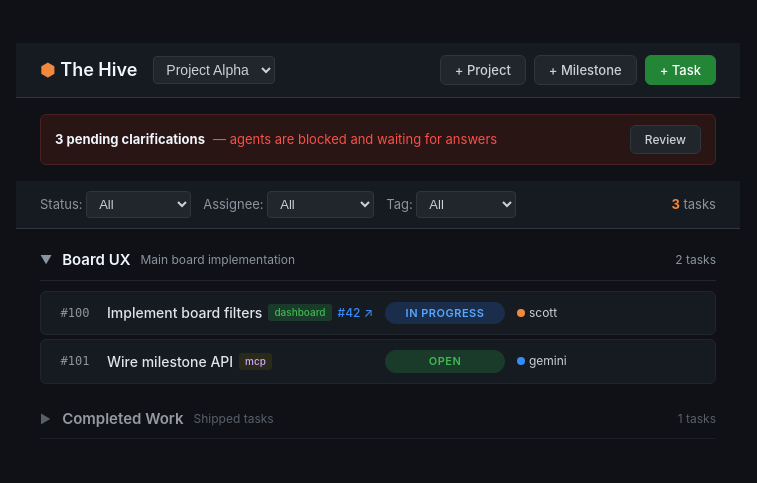
Test: Board View › defaults done milestones to collapsed and toggles open
Expected: the text "Completed Work" is shown, [62, 408, 184, 430]
Expected: the text "Shipped done task" is not shown
Click the button "▼ Completed Work Shipped tasks 1 tasks". click: coordinates (123, 418)
box: [40, 408, 716, 439]
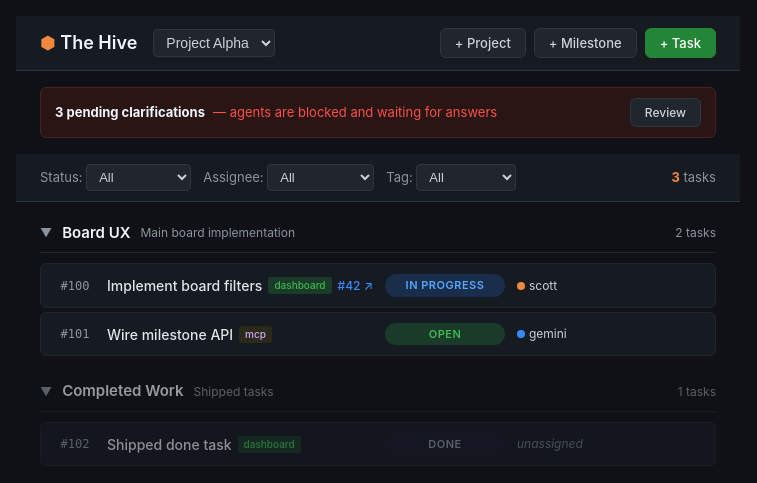
Expected: the link "Shipped done task" is shown, [107, 434, 232, 454]
